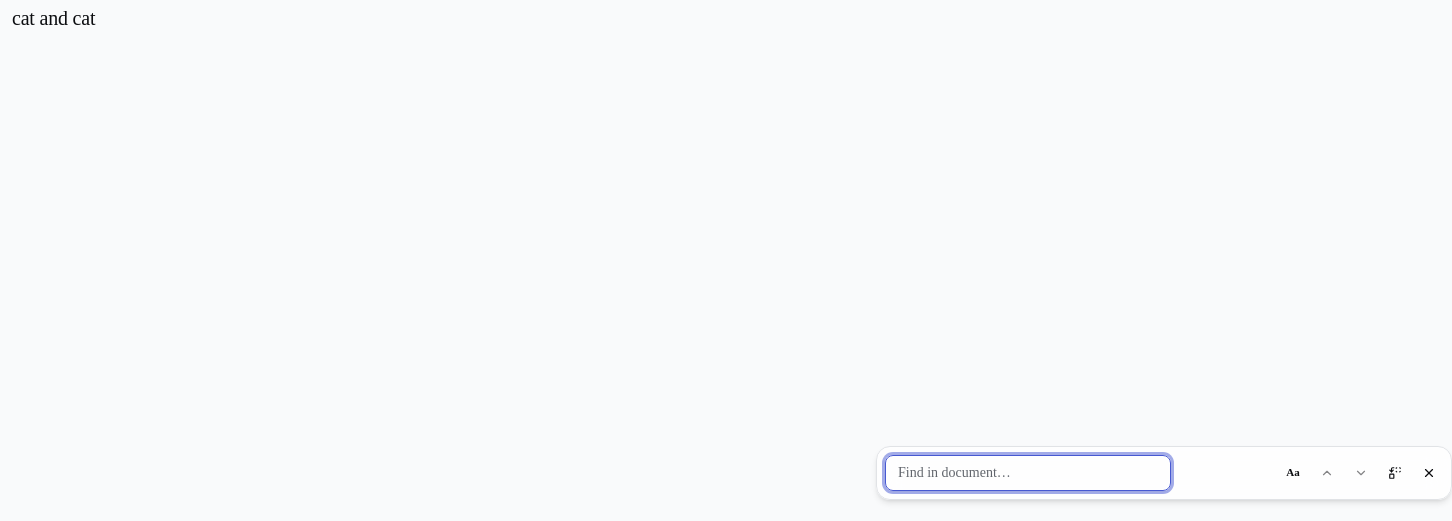
match count › advances the announced position as the user navigates
Expected: the element named "find and replace" is shown, top-left (876, 446), bottom-right (1451, 500)
Type "cat" into the field with placeholder "Find in document…". click: x=1028, y=472
box: top-left (885, 454), bottom-right (1171, 490)
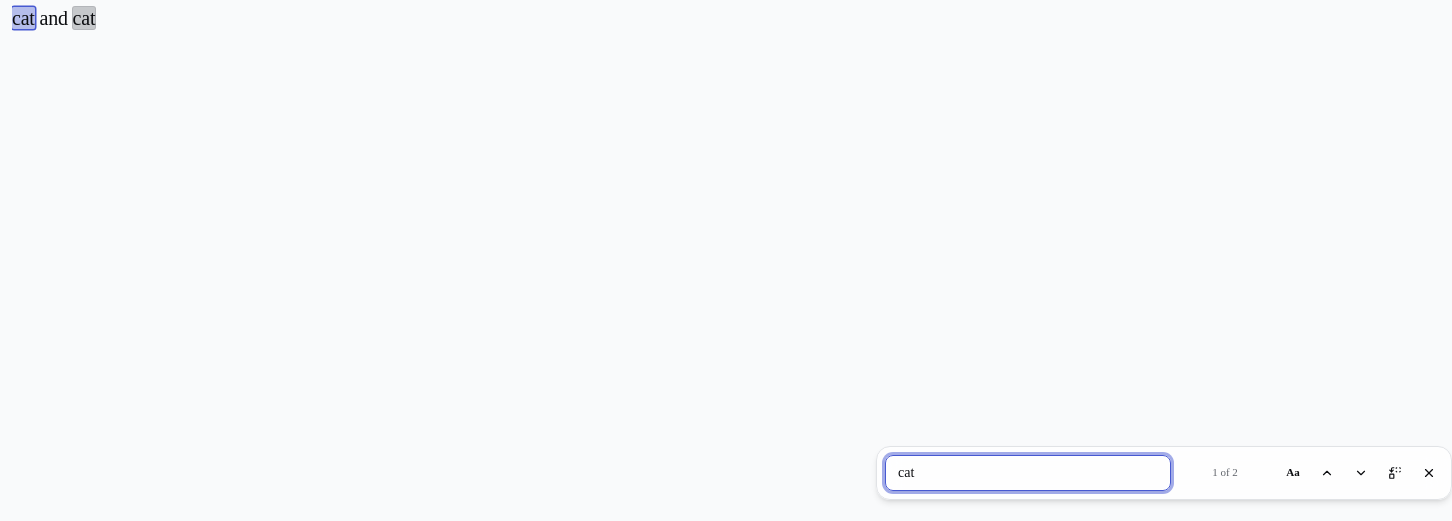
Now the text "1 of 2" is shown, box top-left (1212, 466), bottom-right (1238, 478)
Click the button named "Next match". click: x=1361, y=472
box: top-left (1347, 458), bottom-right (1375, 486)
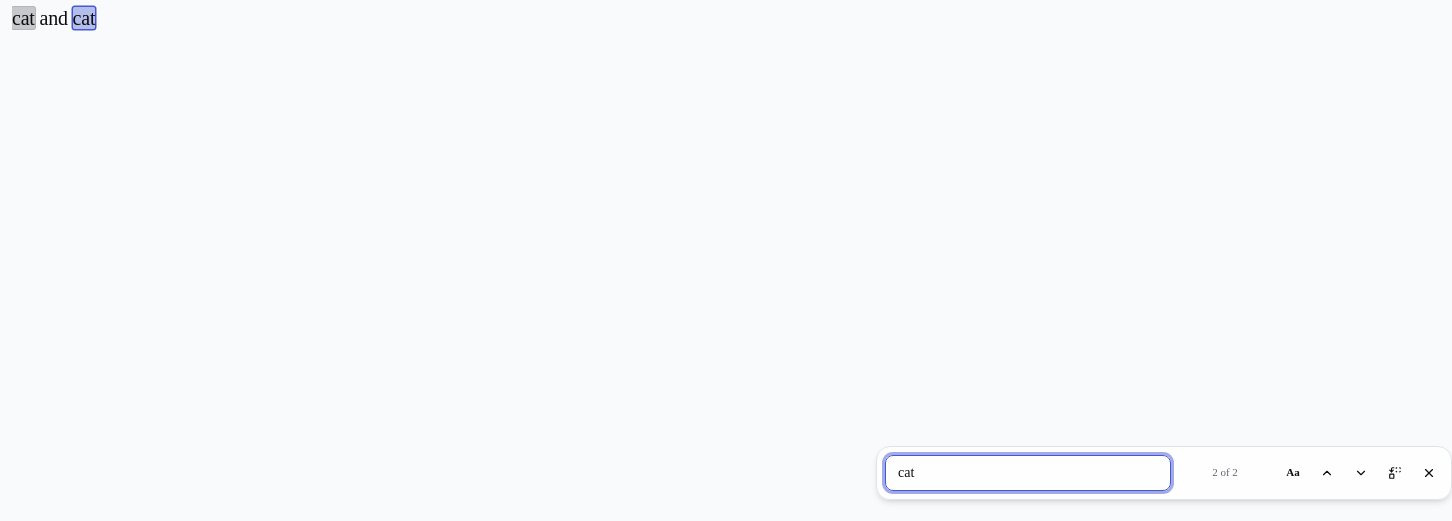
Now the text "2 of 2" is shown, box top-left (1212, 466), bottom-right (1238, 478)
Click the button named "Previous match". click: x=1327, y=472
box: top-left (1313, 458), bottom-right (1341, 486)
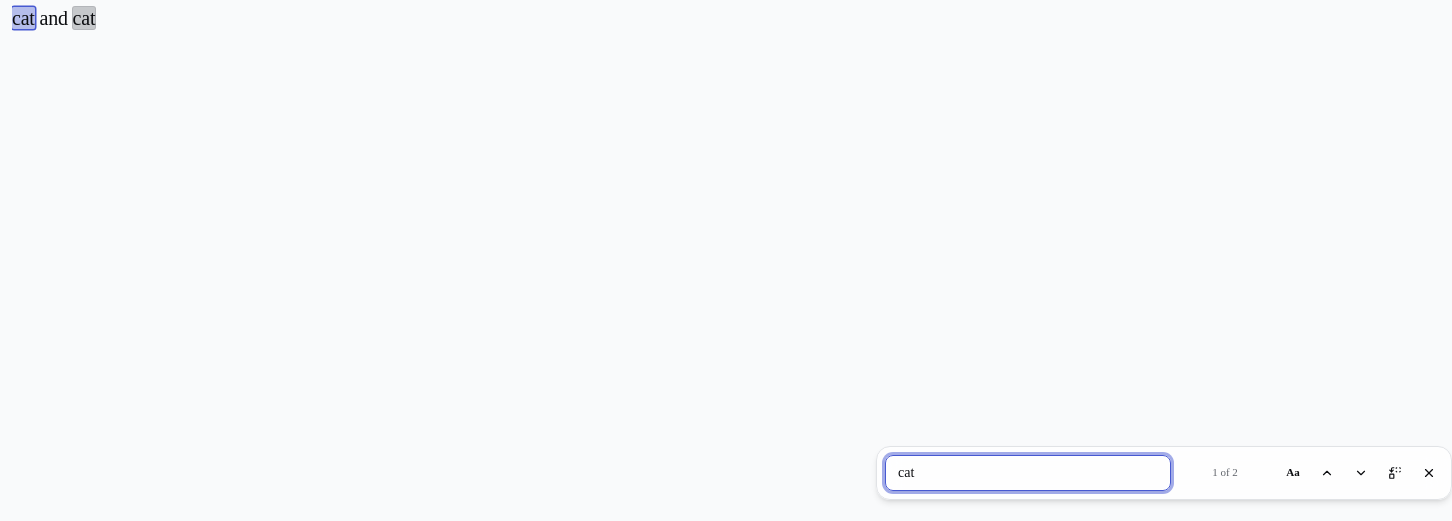
Now the text "1 of 2" is shown, box top-left (1212, 466), bottom-right (1238, 478)
